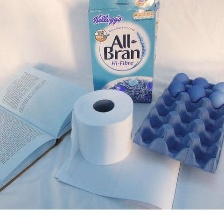book: (0, 62, 95, 194), (82, 0, 163, 108)
tissue: (48, 83, 188, 208)
